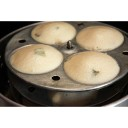idly: (66, 51, 118, 81), (11, 46, 64, 71), (78, 26, 124, 49), (30, 22, 76, 43)
